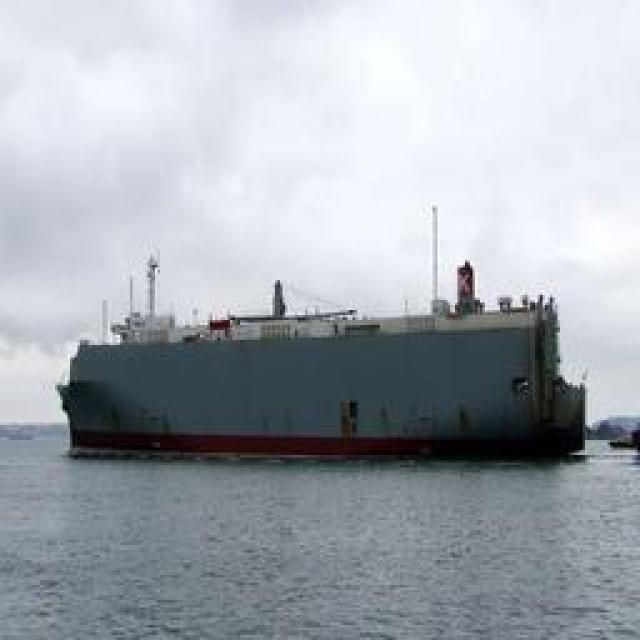CIV_Ship: (59, 288, 582, 468)
